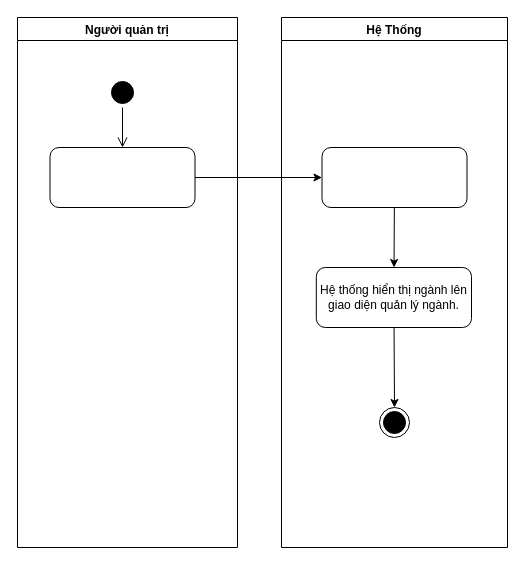
The diagram is 525 pixels wide and 565 high, and some of its shapes have lost their labels. The shapes that lost their labels are listed below. From the top down, each one's centre as x and y in pixels, then its label:
At point 122,177: "Người quản trị chọn chức năng quản lý ngành".
At point 394,177: "Hệ thống lấy thông tin về các ngành trên cơ sở dữ liệu.".
